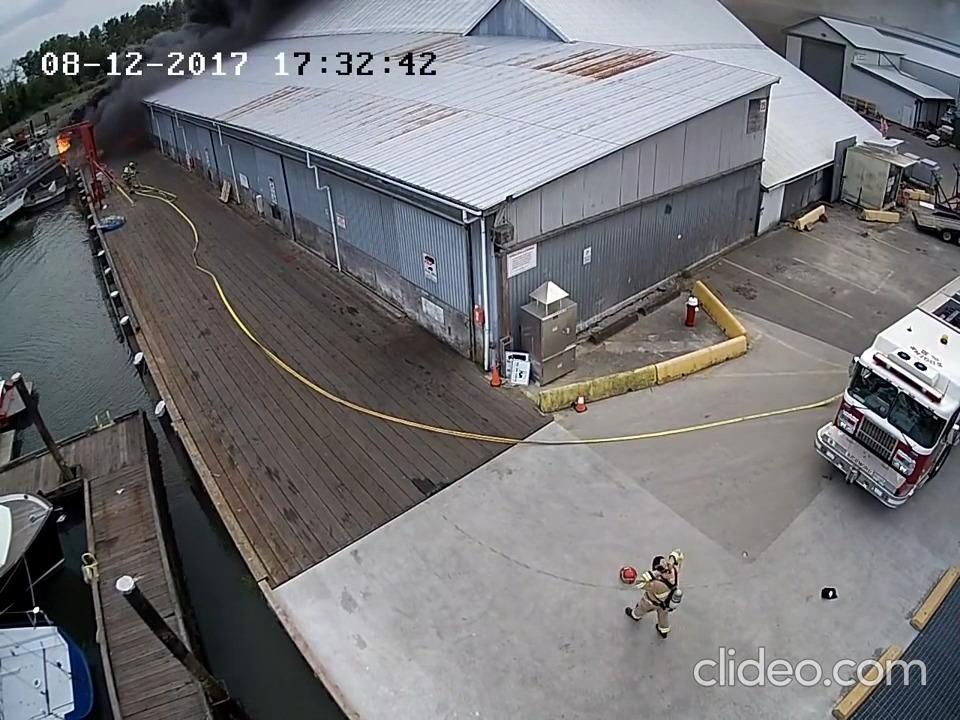fire: (50, 128, 82, 172)
